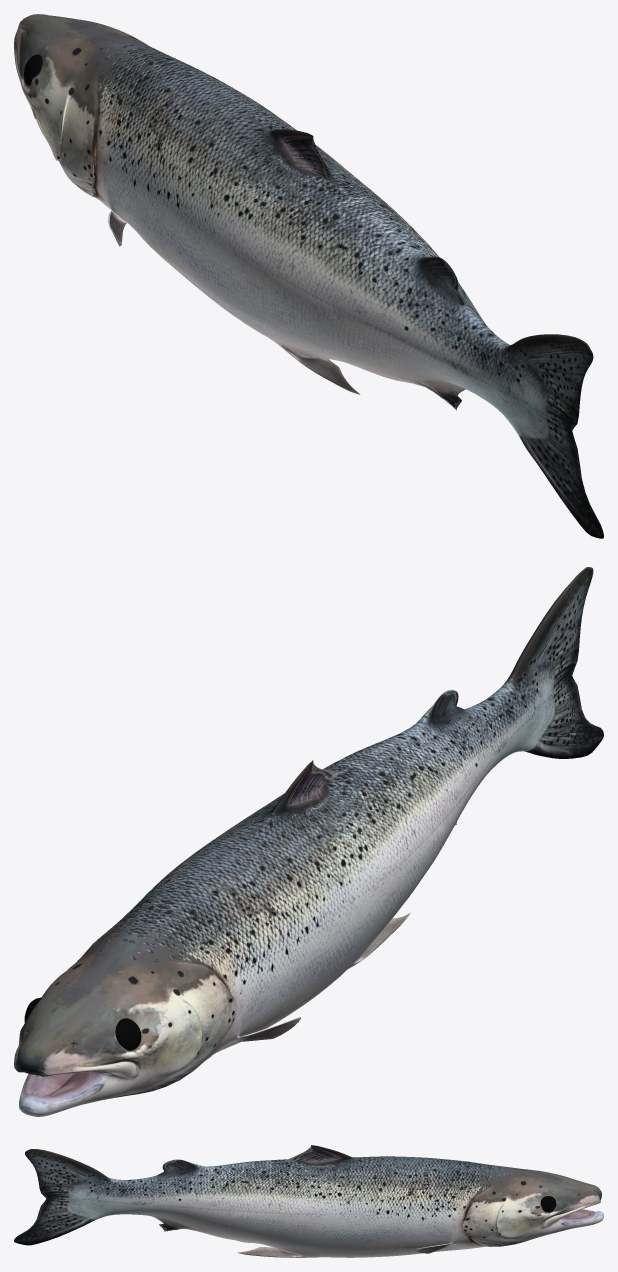
The model's file is smolt-to-adult-subD-21.glb.
The picture shows the model from 3 angles, top to bottom: view 1: azimuth 30°, elevation 25°; view 2: azimuth 150°, elevation 25°; view 3: azimuth 270°, elevation 25°; orthographic projection. The views are drawn at different scales.
Visible parts, largest first — view 1: SubD Smolt; view 2: SubD Smolt; view 3: SubD Smolt.
Part boxes in pixels (x1,y1,x2,y2): SubD Smolt: (14,14,603,538); SubD Smolt: (14,567,603,1116); SubD Smolt: (14,1145,603,1257).
Size of the model in its own units: 9.69 by 10.79 by 53.51.
Materials: 1 (1 with a texture image).
